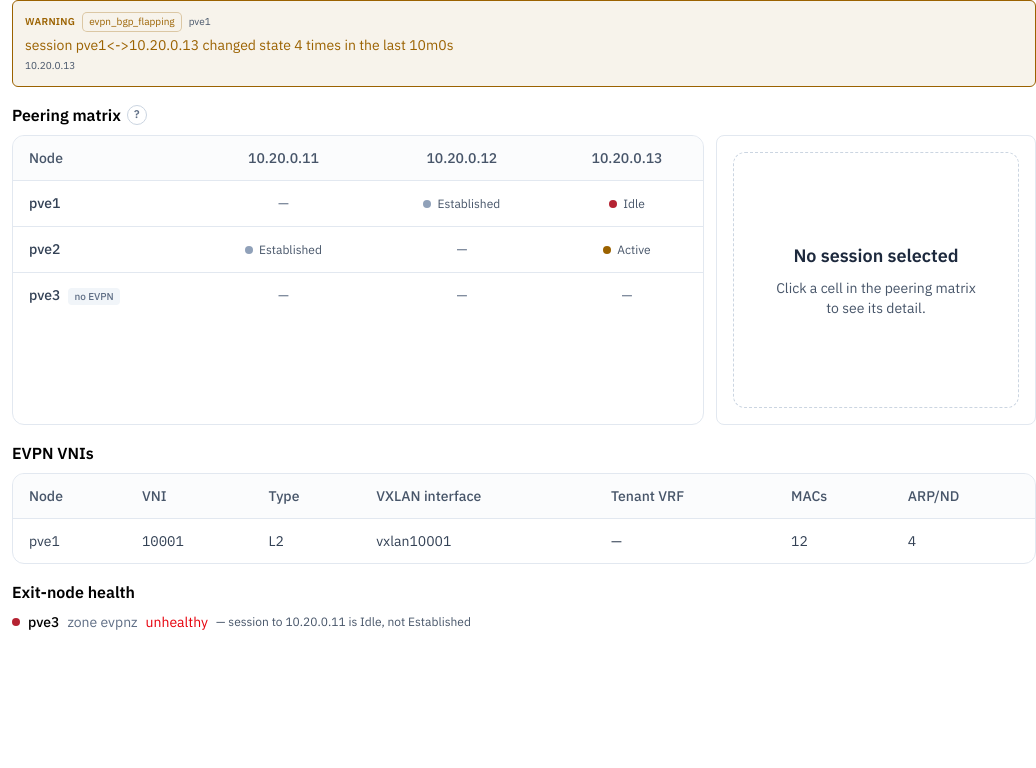
Test: EvpnView › session detail shows the last-error state reason for a down session
This screenshot has width=1036, height=768.
Expected: the table named "EVPN peering matrix" is shown, x1=13 y1=136 x2=703 y2=317
Click the button "Idle": x=627, y=204 x1=603 y1=194 x2=651 y2=214
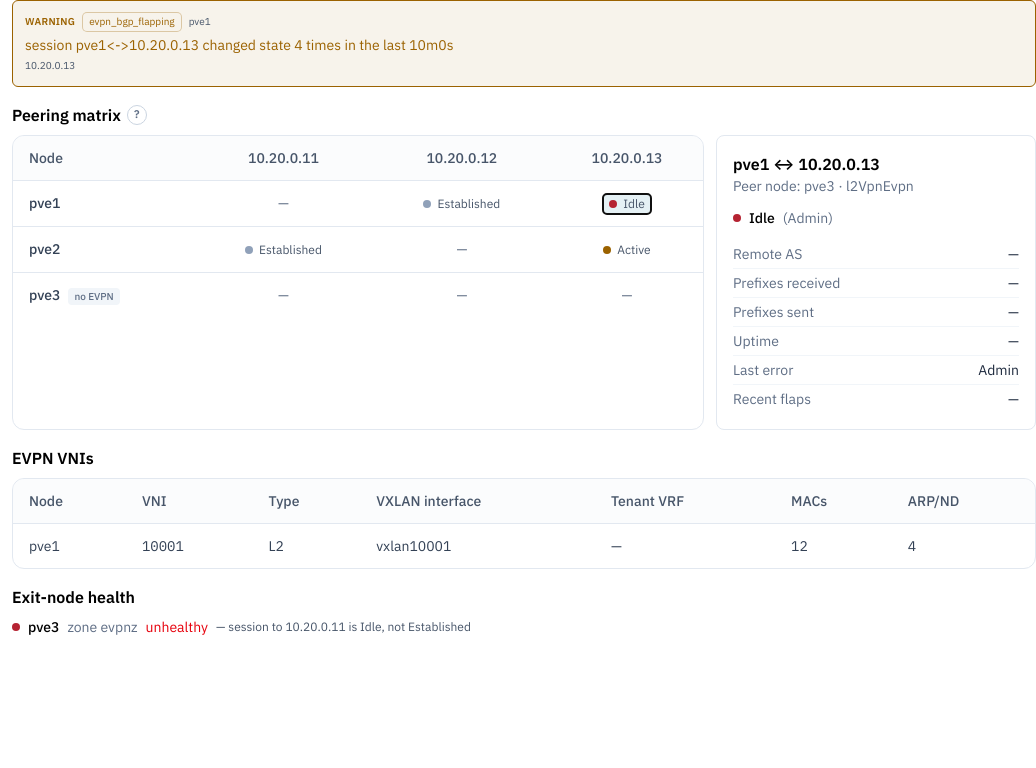
Expected: the heading "pve1 ↔ 10.20.0.13" is shown, x1=733 y1=154 x2=880 y2=174
Expected: the text "Last error" is shown, x1=733 y1=361 x2=793 y2=379
Expected: the text "Admin" is shown, x1=978 y1=360 x2=1019 y2=380
